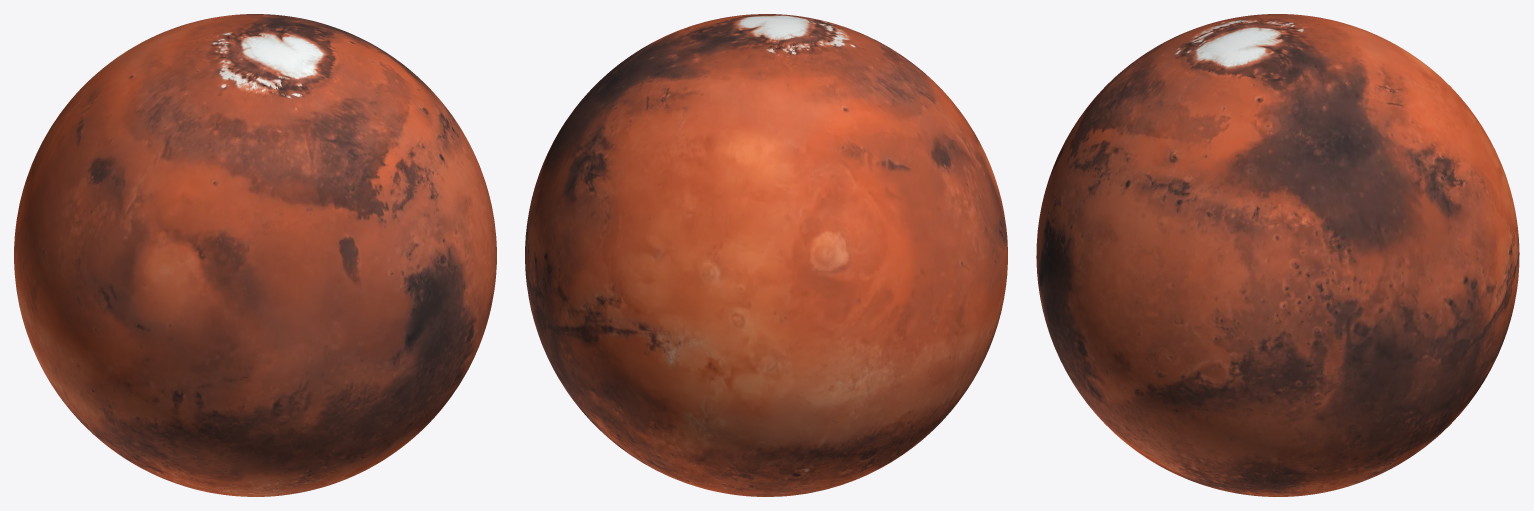
The model's file is mars.glb.
The picture shows the model from 3 angles, left to right: view 1: azimuth 30°, elevation 25°; view 2: azimuth 150°, elevation 25°; view 3: azimuth 270°, elevation 25°; orthographic projection.
Visible parts, largest first — view 1: mars_1; view 2: mars_1; view 3: mars_1.
Boxes of the visible parts, left/top/right/bottom form: mars_1: left=14, top=14, right=496, bottom=496; mars_1: left=525, top=14, right=1007, bottom=496; mars_1: left=1036, top=14, right=1519, bottom=496.
Size of the model in its own units: 5.09 by 5.09 by 5.09.
Materials: 1 (1 with a texture image).
